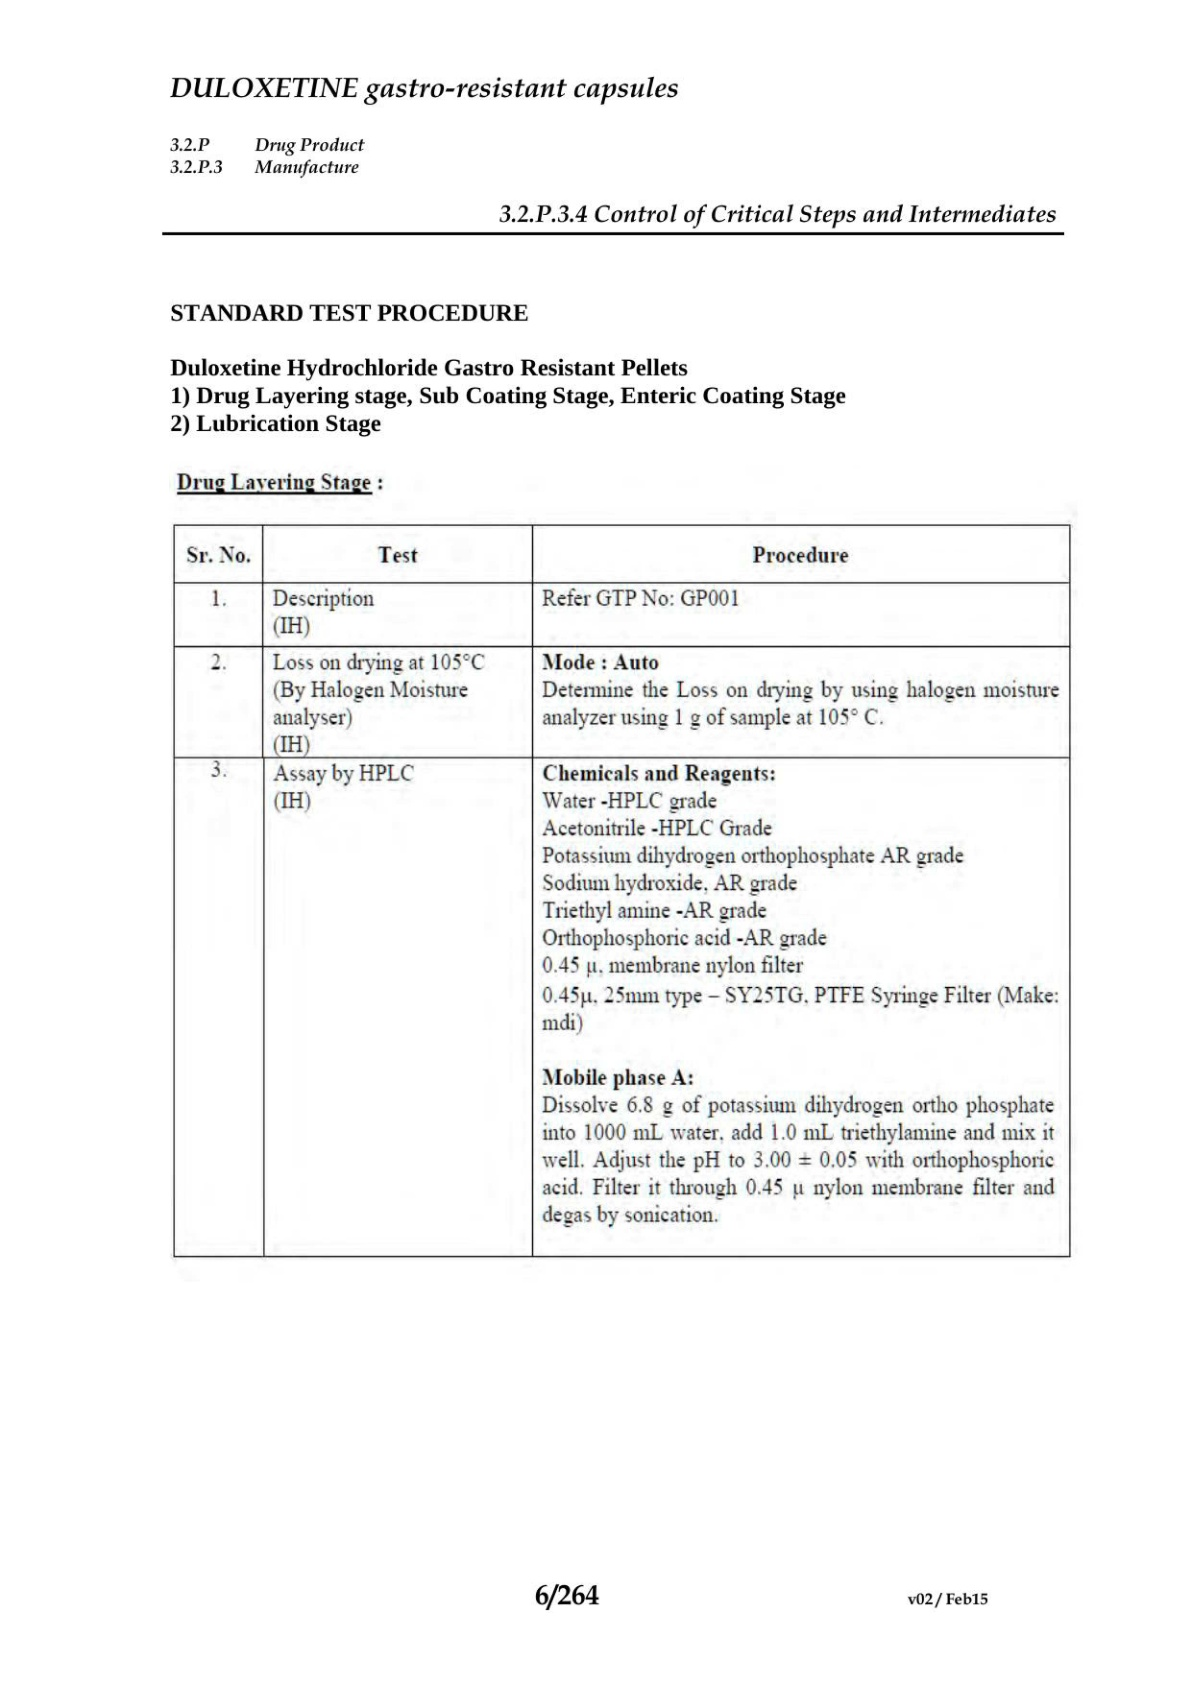full_lined: (172, 524, 1071, 1258)
